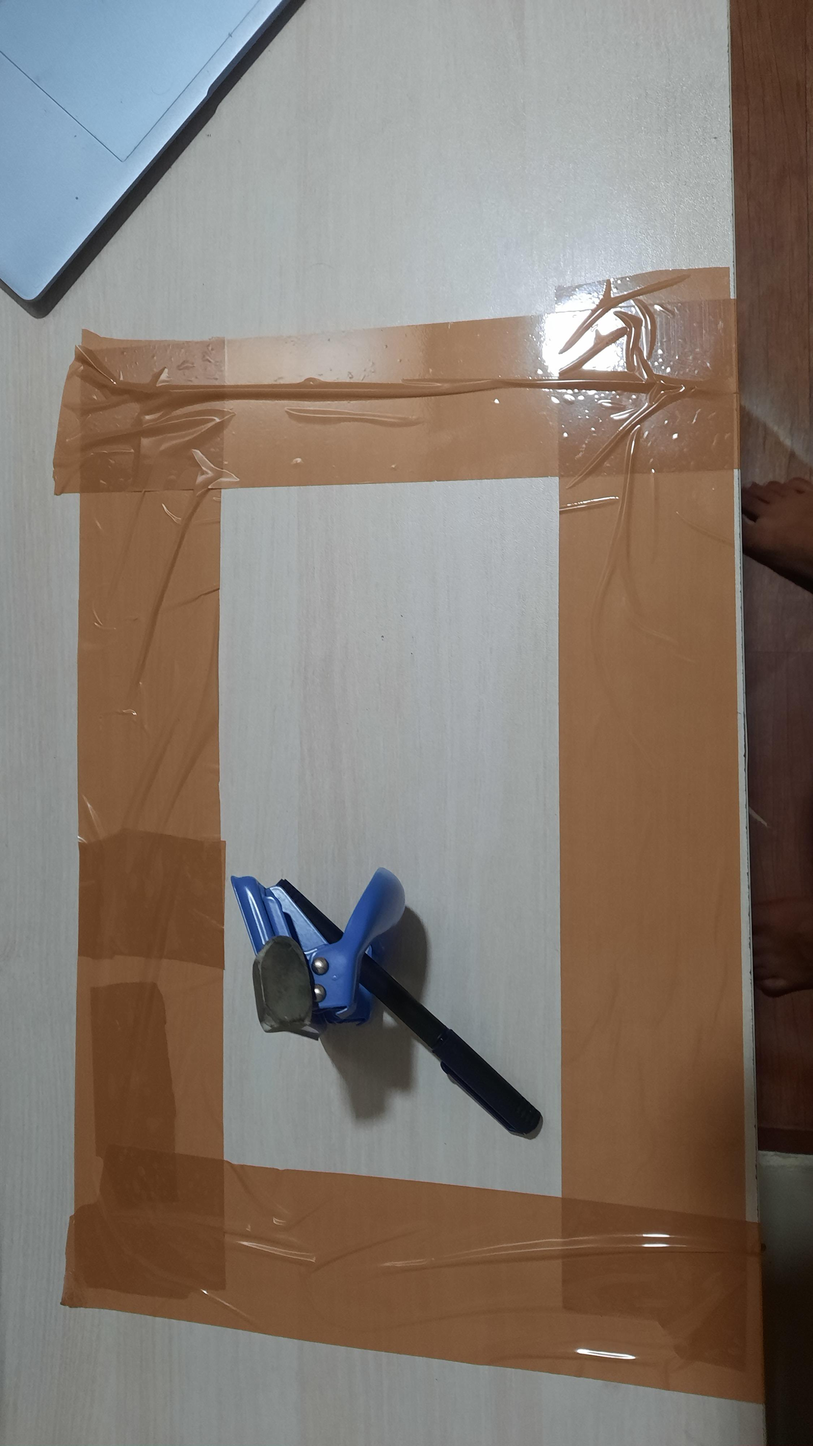Eraser: (252, 935, 320, 1038)
Pen: (277, 878, 543, 1138)
Punch: (230, 867, 406, 1034)
